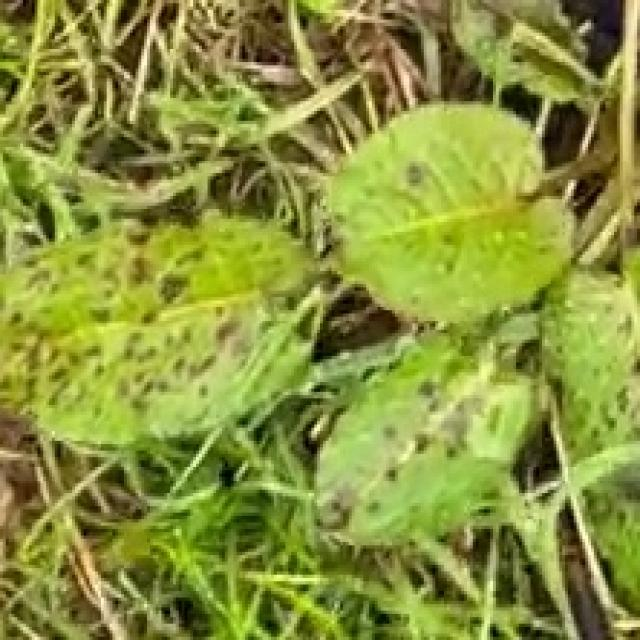organic waste: (0, 93, 640, 569)
